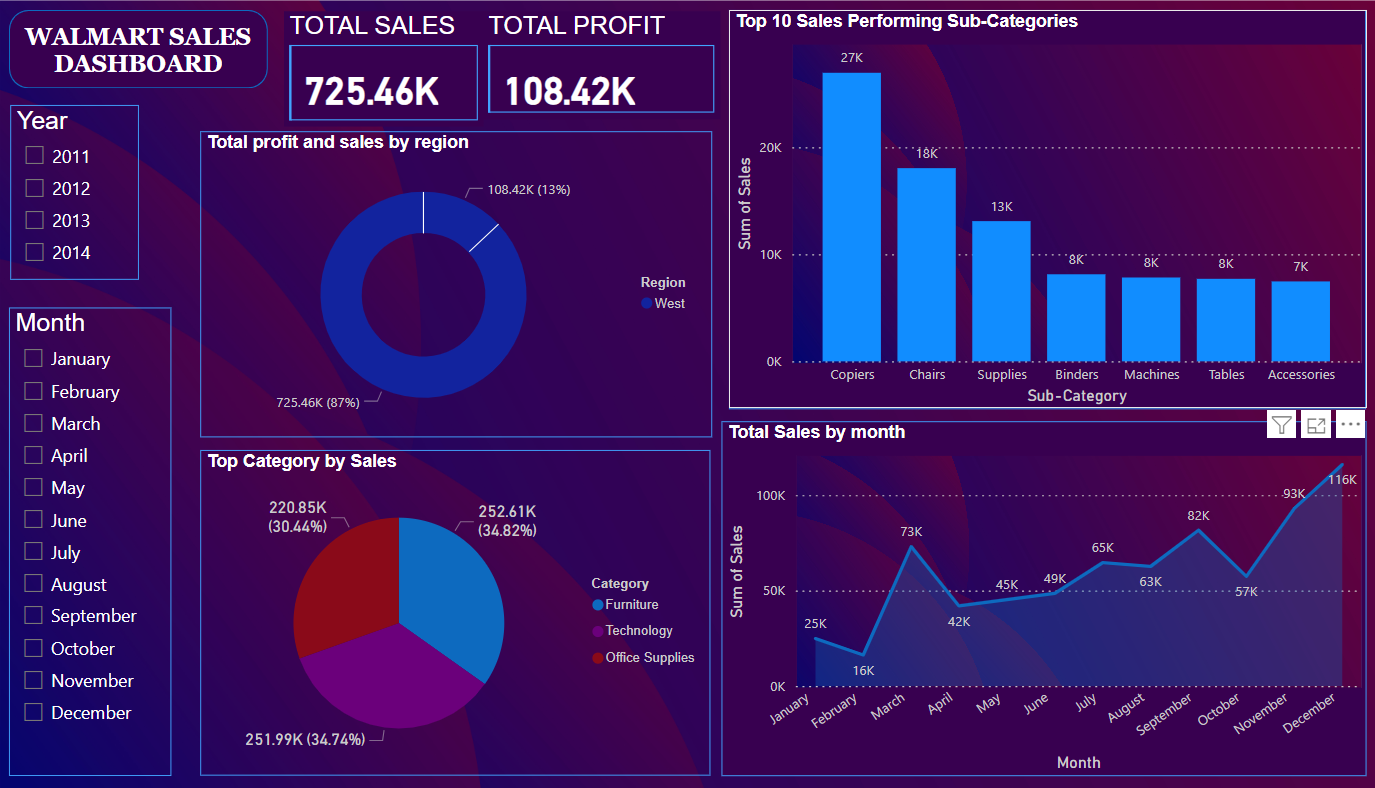

What the dashboard file says about the page in this screenshot:
{"tool":"powerbi","page":{"name":"OG-Dashboard","canvas":[1280,720],"ordinal":7},"visuals":[{"type":"image","box":[0,0,1280,720],"z":0},{"type":"shape","box":[26.7,13.3,233.3,70.7],"z":1000},{"type":"textbox","box":[0,21.3,286.7,77.3],"z":2000},{"type":"lineChart","title":"Total Sales by month","fields":{"Category":["Walmart.Order Date.Variation.Date Hierarchy.Month"],"Y":["Sum(Walmart.Sales)"]},"box":[669.3,384,581.3,320],"z":3000},{"type":"clusteredColumnChart","title":"Top 10 Sales Performing Sub-Categories","fields":{"Y":["Sum(Walmart.Sales)"],"Category":["Walmart.Sub-Category"]},"box":[676,13.3,574.7,360],"z":4000},{"type":"pieChart","title":"Top Category by Sales","fields":{"Category":["Walmart.Category"],"Y":["Sum(Walmart.Sales)"]},"box":[200,410.7,460,293.3],"z":5000},{"type":"donutChart","title":"Total profit and sales by region","fields":{"Category":["Walmart.Region"],"Y":["Sum(Walmart.Total Profit)","Sum(Walmart.Total Sales)"]},"box":[200,122.7,461.3,276],"z":6000},{"type":"cardVisual","title":"TOTAL SALES","fields":{"Data":["Sum(Walmart.Sales)"]},"box":[274.7,14.7,180,104],"z":7000},{"type":"cardVisual","title":"TOTAL PROFIT","fields":{"Data":["Sum(Walmart.Profit)"]},"box":[454.7,14.7,214.7,97.3],"z":8000},{"type":"slicer","title":"Year","fields":{"Values":["Walmart.Order Date.Variation.Date Hierarchy.Year"]},"box":[26.7,98.8,116.3,157],"z":9000},{"type":"slicer","title":"Month","fields":{"Values":["Walmart.Order Date.Variation.Date Hierarchy.Month"]},"box":[26.7,281.3,146.7,422.7],"z":10000}]}

Visuals, with their boxes in screenshot pixels (x1, y1, x2, y2), scaled from the page's 1280x720 canvas onto the 1375x788 screenshot:
image: {"x1": 0, "y1": 0, "x2": 1374, "y2": 787}
shape: {"x1": 29, "y1": 15, "x2": 279, "y2": 92}
textbox: {"x1": 0, "y1": 23, "x2": 308, "y2": 108}
"Total Sales by month" lineChart: {"x1": 719, "y1": 420, "x2": 1343, "y2": 770}
"Top 10 Sales Performing Sub-Categories" clusteredColumnChart: {"x1": 726, "y1": 15, "x2": 1344, "y2": 409}
"Top Category by Sales" pieChart: {"x1": 215, "y1": 449, "x2": 709, "y2": 770}
"Total profit and sales by region" donutChart: {"x1": 215, "y1": 134, "x2": 710, "y2": 436}
"TOTAL SALES" cardVisual: {"x1": 295, "y1": 16, "x2": 488, "y2": 130}
"TOTAL PROFIT" cardVisual: {"x1": 488, "y1": 16, "x2": 719, "y2": 123}
"Year" slicer: {"x1": 29, "y1": 108, "x2": 154, "y2": 280}
"Month" slicer: {"x1": 29, "y1": 308, "x2": 186, "y2": 770}
